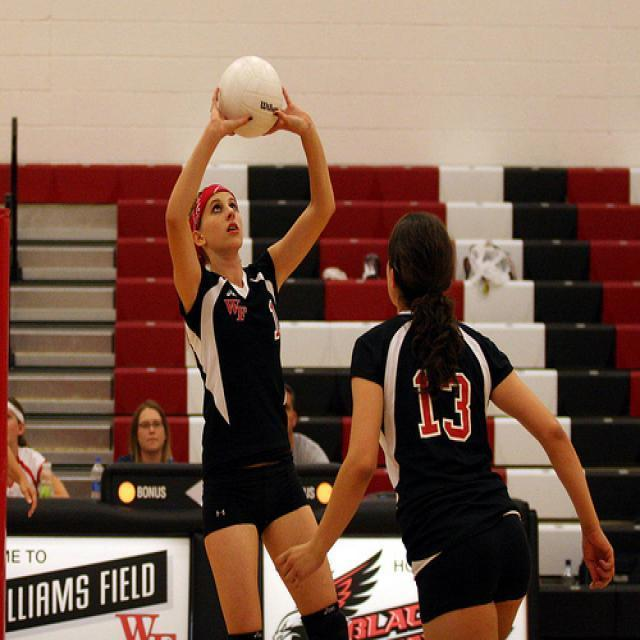volleyball: (216, 55, 282, 138)
